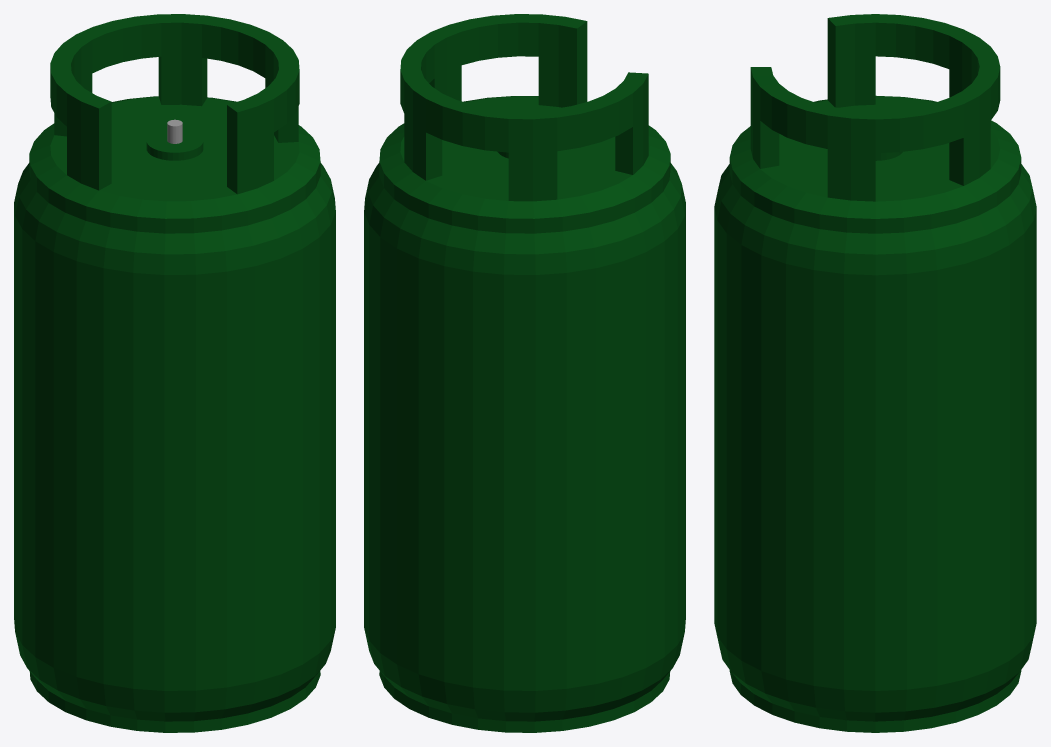
File: GasCylinder.fbx
The picture shows the model from 3 angles, left to right: view 1: azimuth 30°, elevation 25°; view 2: azimuth 150°, elevation 25°; view 3: azimuth 270°, elevation 25°; orthographic projection.
Visible parts, largest first — view 1: Cylinder; view 2: Cylinder; view 3: Cylinder.
Boxes of the visible parts, x1=… form: Cylinder: x1=14, y1=14, x2=335, y2=732; Cylinder: x1=364, y1=14, x2=685, y2=732; Cylinder: x1=714, y1=14, x2=1036, y2=732.
Size of the model in its own units: 365 by 755 by 365.
